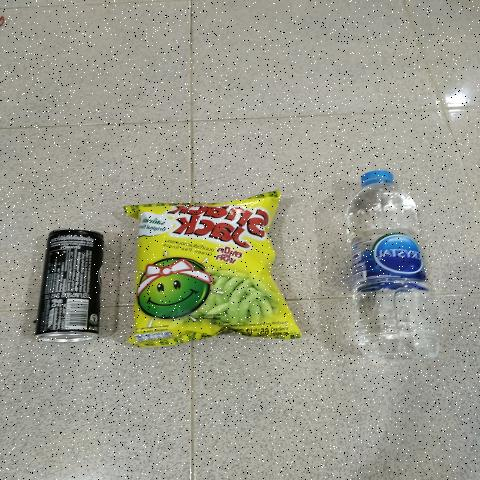crystal: (364, 168, 418, 358)
pepsi_black: (50, 233, 88, 333)
snack_jack: (140, 205, 278, 333)
